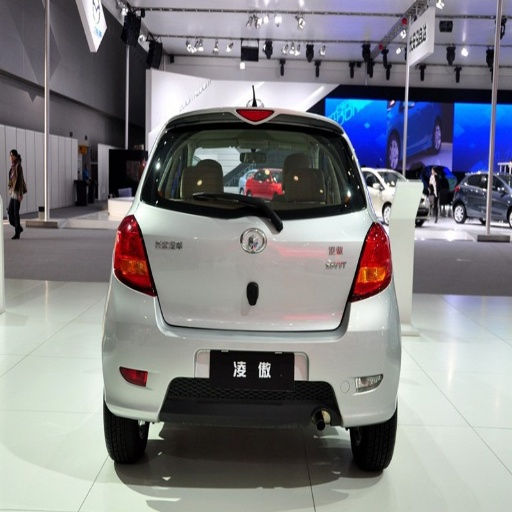back_bumper: (100, 283, 396, 431)
tailgate: (331, 224, 364, 291)
trunk: (140, 205, 366, 332)
